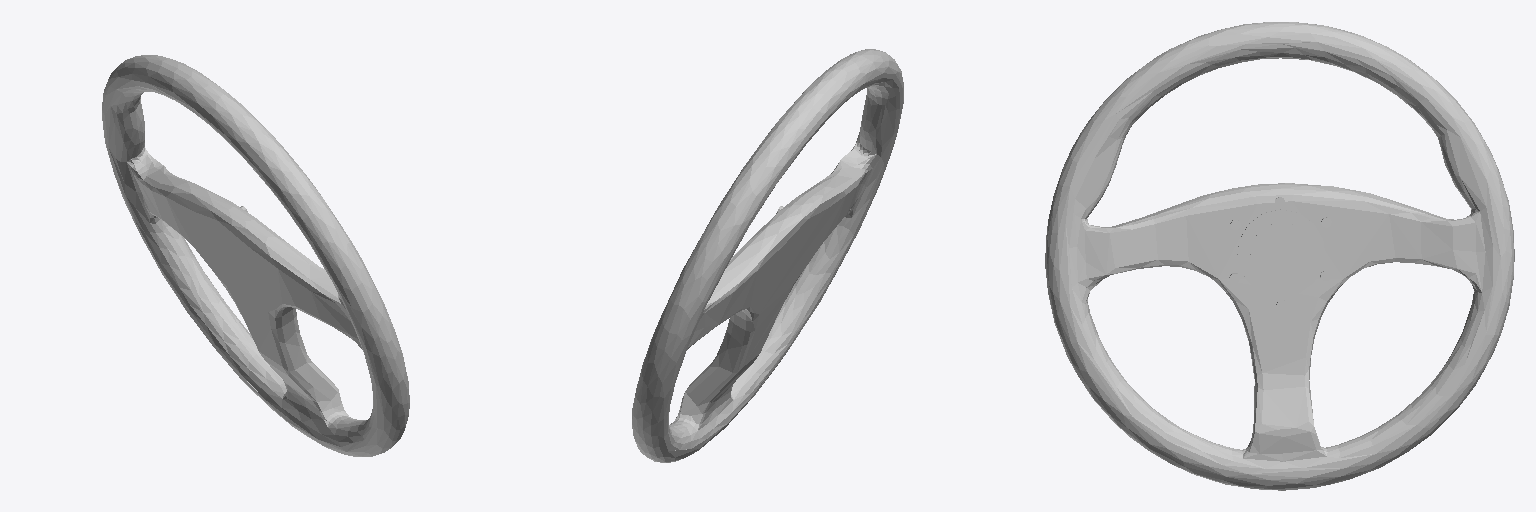
The model's file is Steering wheel.obj.
The picture shows the model from 3 angles: view 1: azimuth 30°, elevation 25°; view 2: azimuth 150°, elevation 25°; view 3: azimuth 270°, elevation 25°; orthographic projection.
Parts seen in each view (by area): view 1: Touareg.001; view 2: Touareg.001; view 3: Touareg.001.
Boxes of the visible parts, x1,y1,x2,y2 form: Touareg.001: [102, 55, 409, 456]; Touareg.001: [632, 49, 903, 462]; Touareg.001: [1045, 22, 1514, 490].
Bounding box in the file's own units: 153 × 357 × 378.